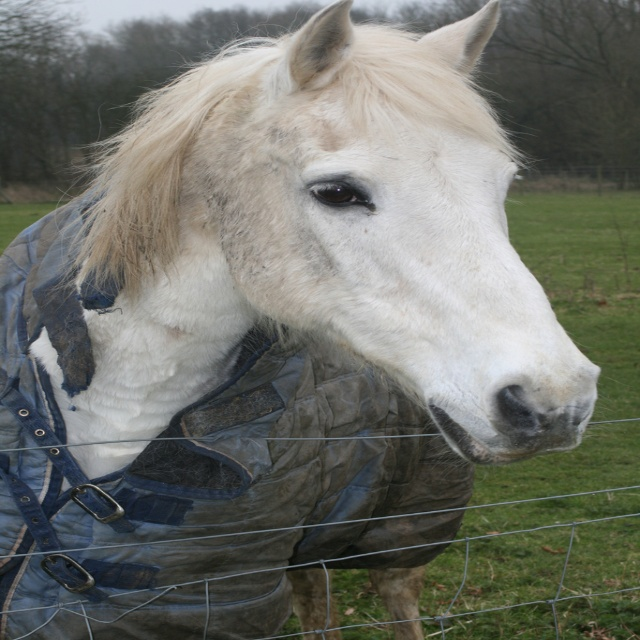Horse: (0, 0, 633, 640)
